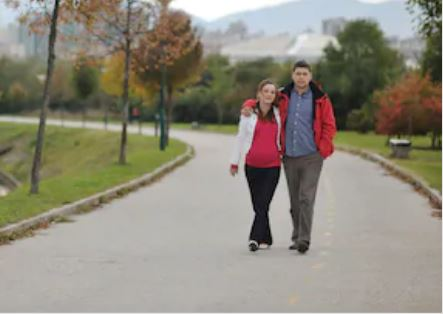Bad: (229, 59, 336, 253)
